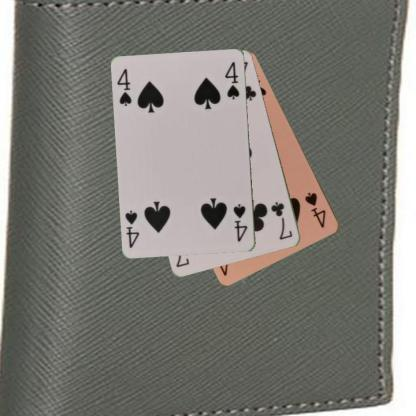4s: (302, 190, 328, 230), (115, 66, 134, 108), (231, 202, 249, 243)
7c: (269, 198, 294, 242)
